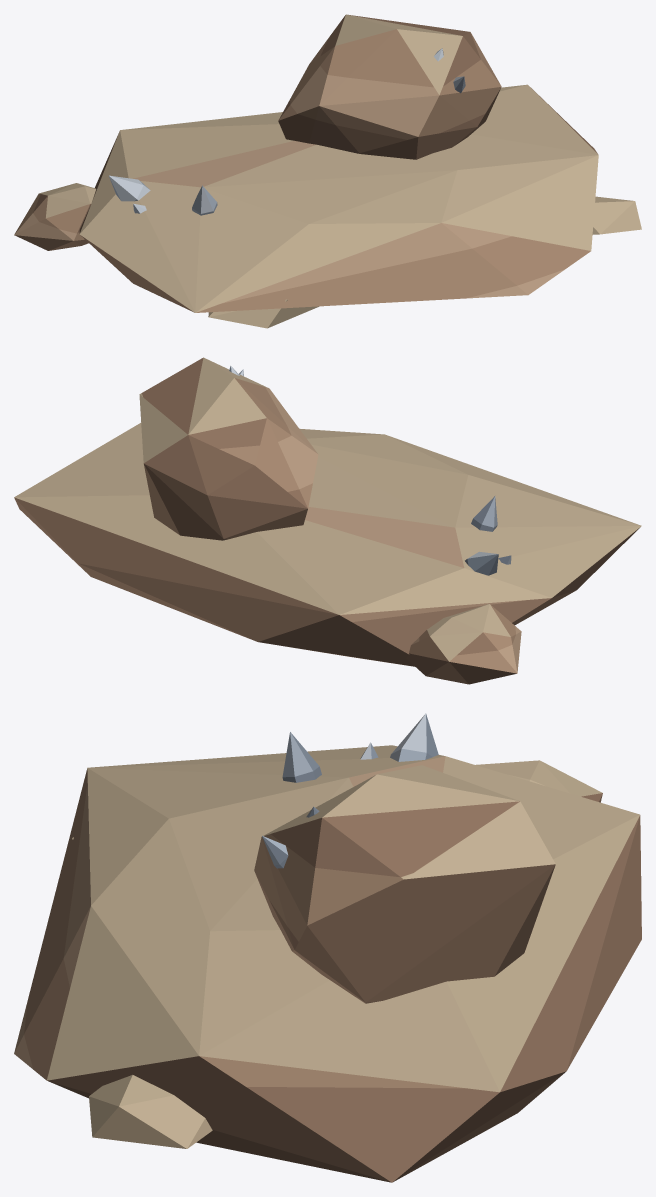
Rendered from rock_desert_1.glb.
3 views of the same model, one above another, from view 1: azimuth 30°, elevation 25°; view 2: azimuth 150°, elevation 25°; view 3: azimuth 270°, elevation 25° (orthographic). The views are drawn at different scales.
Parts seen in each view (by area): view 1: Body; view 2: Body; view 3: Body.
Part boxes in pixels (x1,y1,x2,y2): Body: [14, 14, 641, 328]; Body: [14, 357, 641, 684]; Body: [14, 713, 641, 1182].
Bounding box in the file's own units: 4.45 × 1.44 × 3.03.
